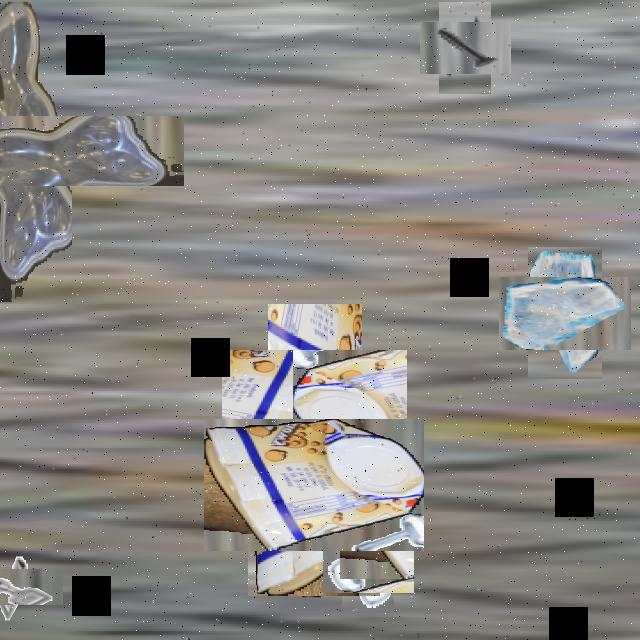glass: (514, 262, 616, 364)
metal: (429, 12, 501, 84), (332, 531, 404, 603), (0, 555, 50, 618)
plastic: (226, 397, 402, 574), (0, 58, 127, 243)
wood: (245, 327, 385, 466)
